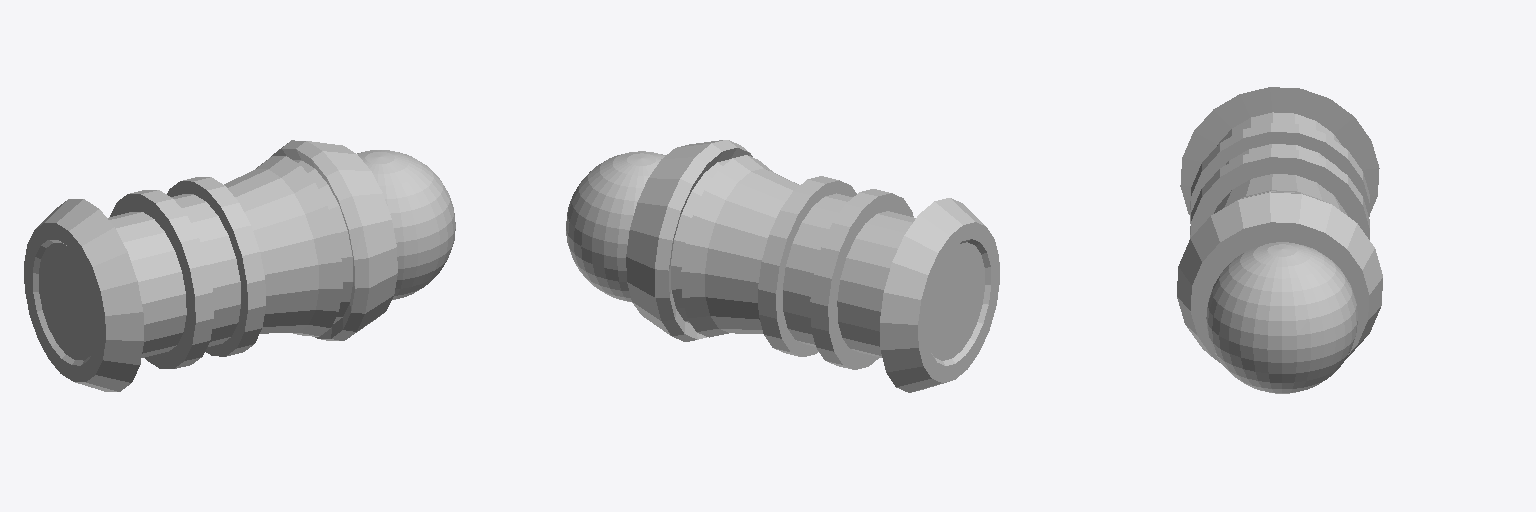
Rendered from hip_r.obj.
3 renders of one model, left to right at view 1: azimuth 30°, elevation 25°; view 2: azimuth 150°, elevation 25°; view 3: azimuth 270°, elevation 25°, orthographic.
Visible parts, largest first — view 1: hip_r_Sphere.003; view 2: hip_r_Sphere.003; view 3: hip_r_Sphere.003.
Boxes of the visible parts, box(x1,y1,x2,y2) form: hip_r_Sphere.003: box(24, 140, 455, 391); hip_r_Sphere.003: box(566, 140, 999, 392); hip_r_Sphere.003: box(1177, 87, 1382, 393).
Size of the model in its own units: 0.4959 by 0.2325 by 0.2325.